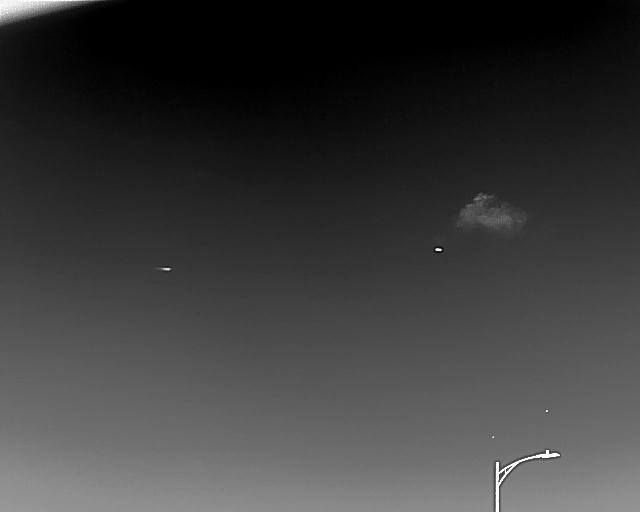fpv-drone: (433, 246, 443, 252)
